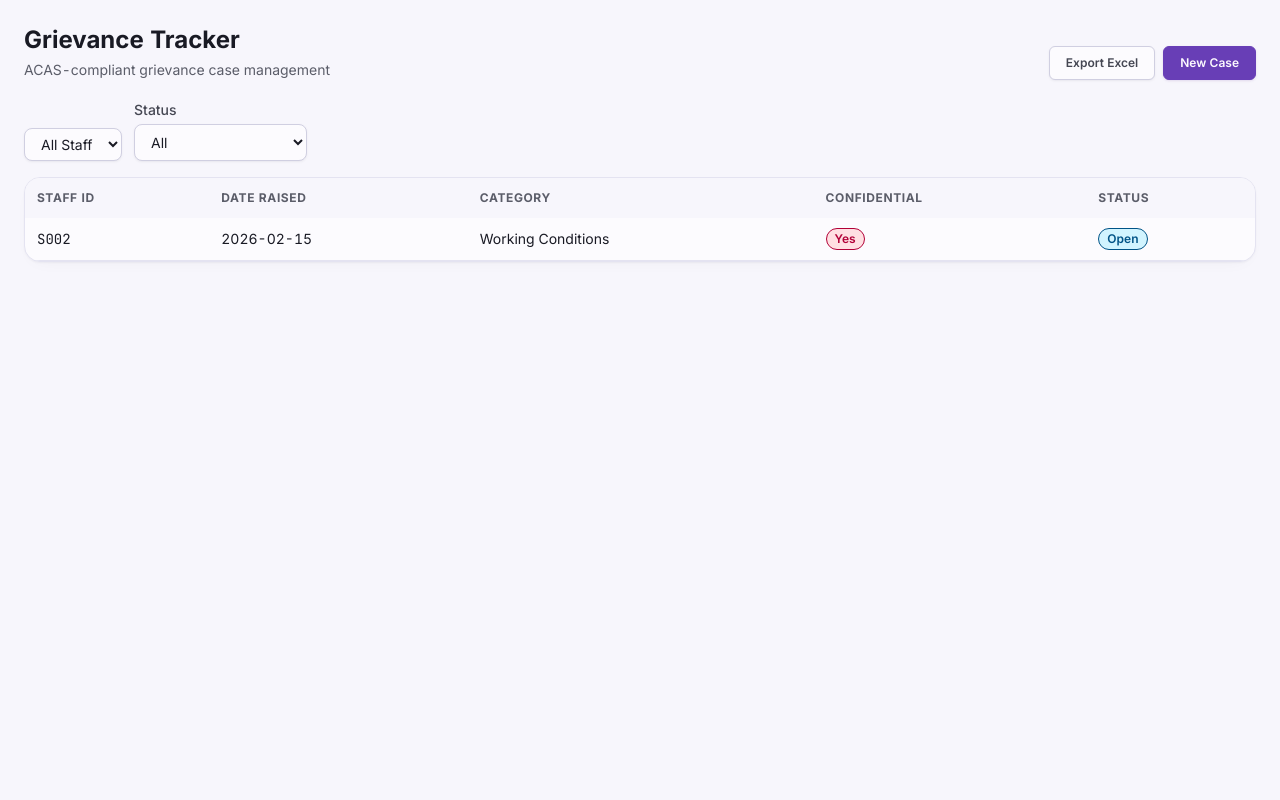
Scenario: GrievanceTracker › uses a select for appeal outcome in the edit flow
The image size is (1280, 800).
Step 1. Click the text "S002" → (54, 239), box x1=25 y1=218 x2=209 y2=260
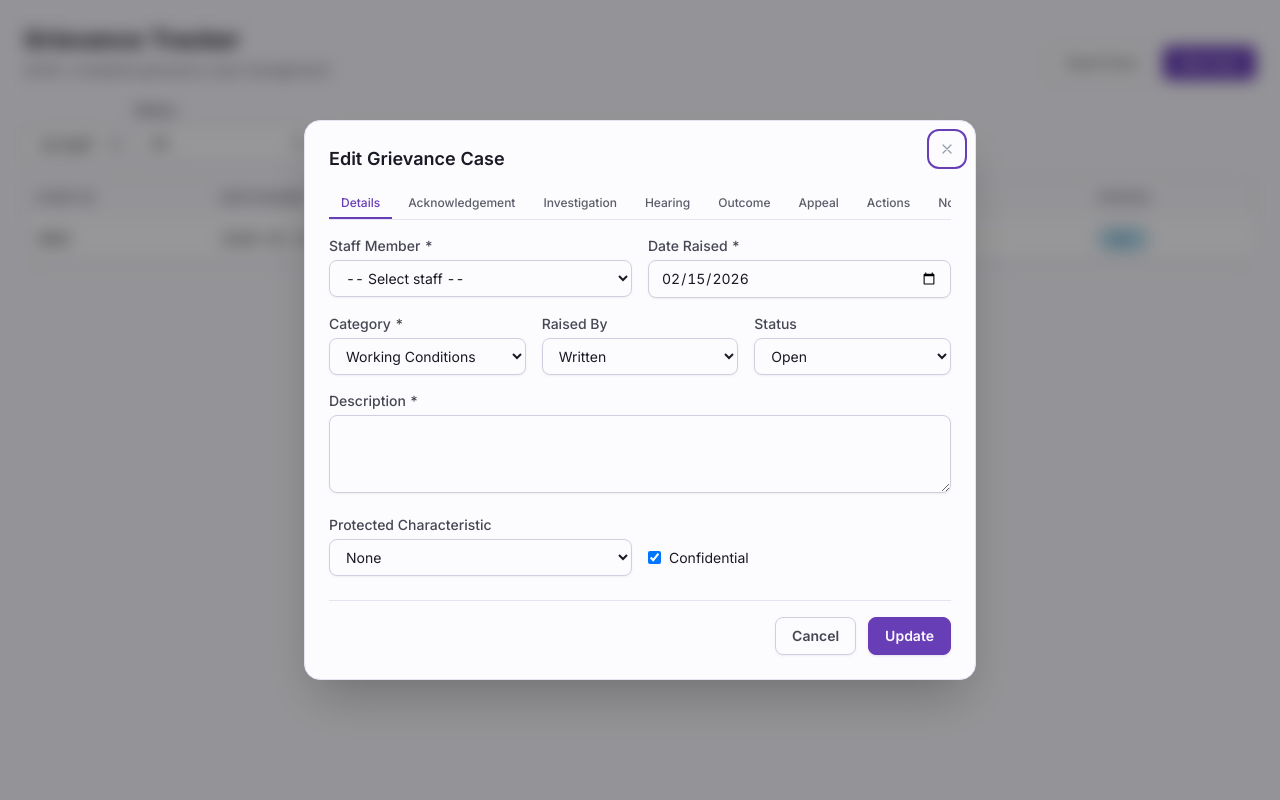
Expected: the tab "Appeal" is shown
Step 2. Click the tab "Appeal" → (819, 204), box x1=786 y1=189 x2=851 y2=219
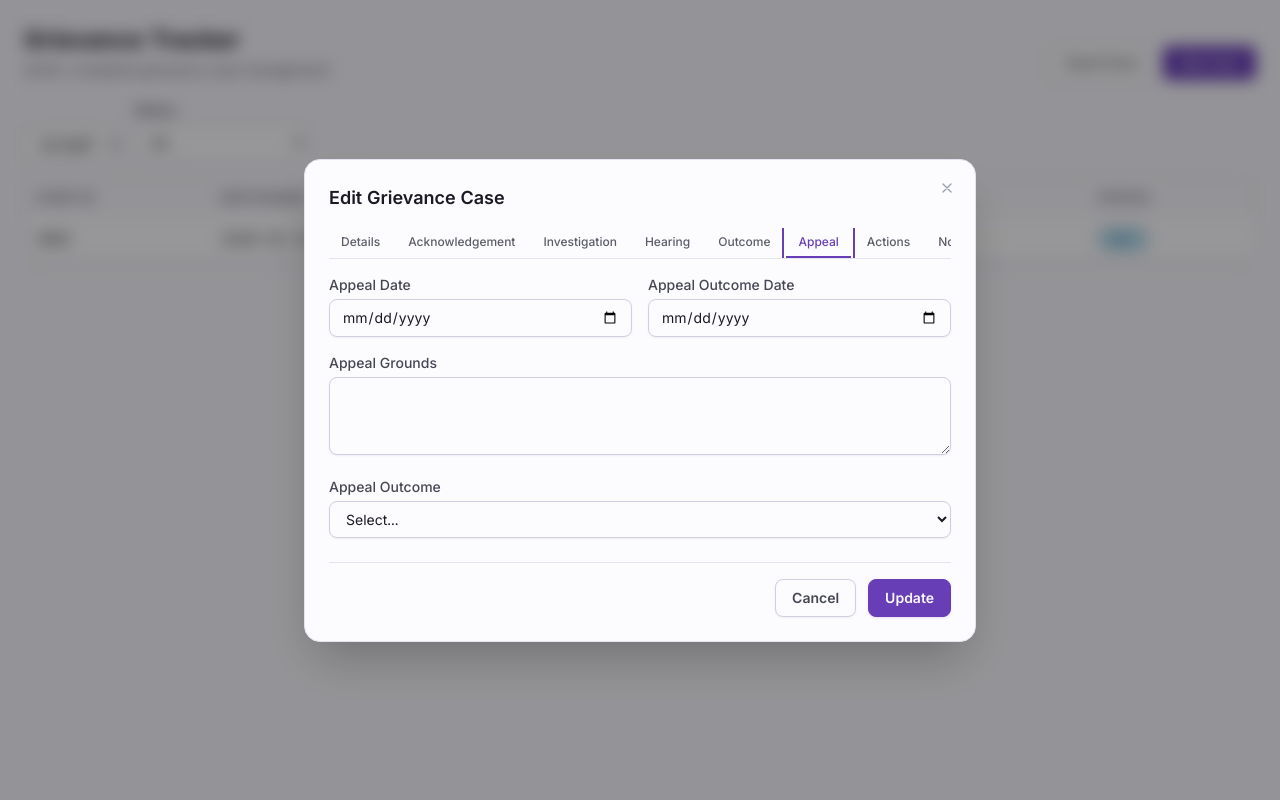
Expected: the dropdown labelled "Appeal Outcome" shows "Select...", x1=329 y1=500 x2=951 y2=538
